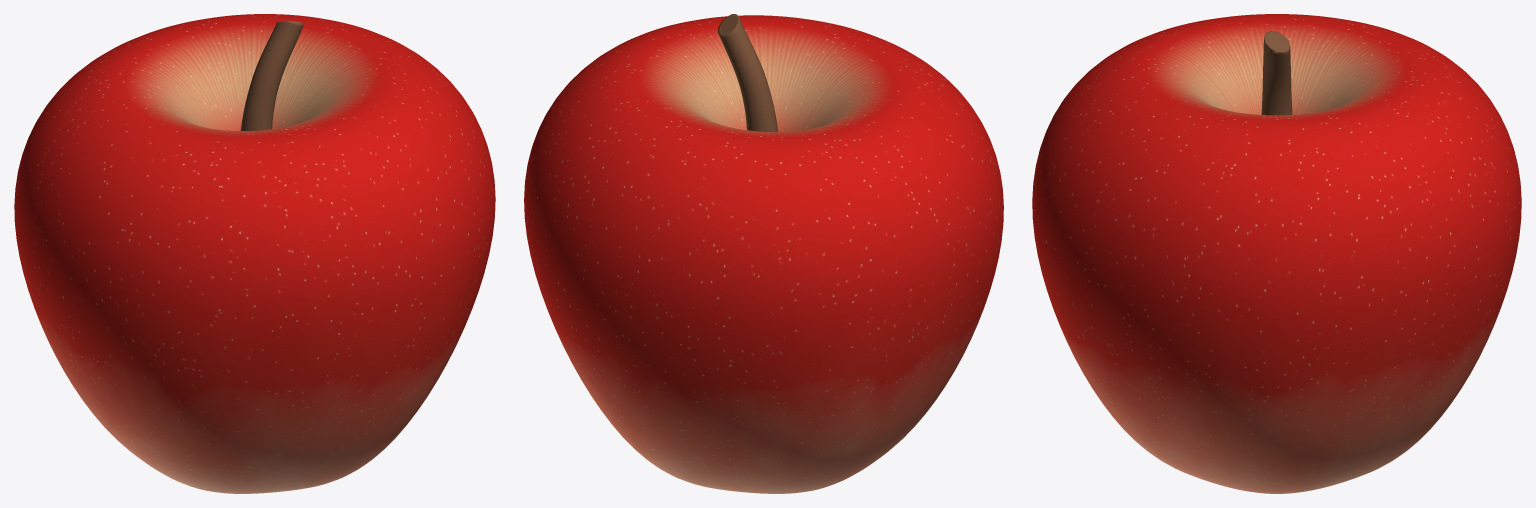
The model's file is newapple2.glb.
3 renders of one model, left to right at view 1: azimuth 30°, elevation 25°; view 2: azimuth 150°, elevation 25°; view 3: azimuth 270°, elevation 25°, orthographic.
Visible parts, largest first — view 1: Apple_Whole, Whole_Stem; view 2: Apple_Whole, Whole_Stem; view 3: Apple_Whole, Whole_Stem.
Boxes of the visible parts, box(x1,y1,x2,y2) form: Apple_Whole: box(14, 14, 495, 493); Whole_Stem: box(240, 20, 303, 130); Apple_Whole: box(524, 15, 1003, 493); Whole_Stem: box(718, 14, 778, 132); Apple_Whole: box(1032, 14, 1521, 493); Whole_Stem: box(1261, 31, 1292, 115).
Bounding box in the file's own units: 2.03 × 2.01 × 2.03.
Materials: 2 (1 with a texture image).
